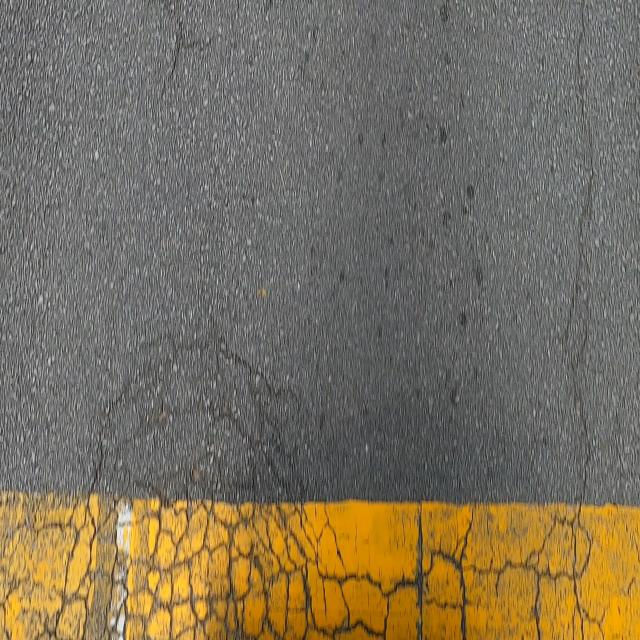Retak-Buaya: (1, 495, 610, 640), (48, 339, 329, 640)
Retak-Memanjang: (557, 0, 597, 361), (568, 323, 594, 506)
